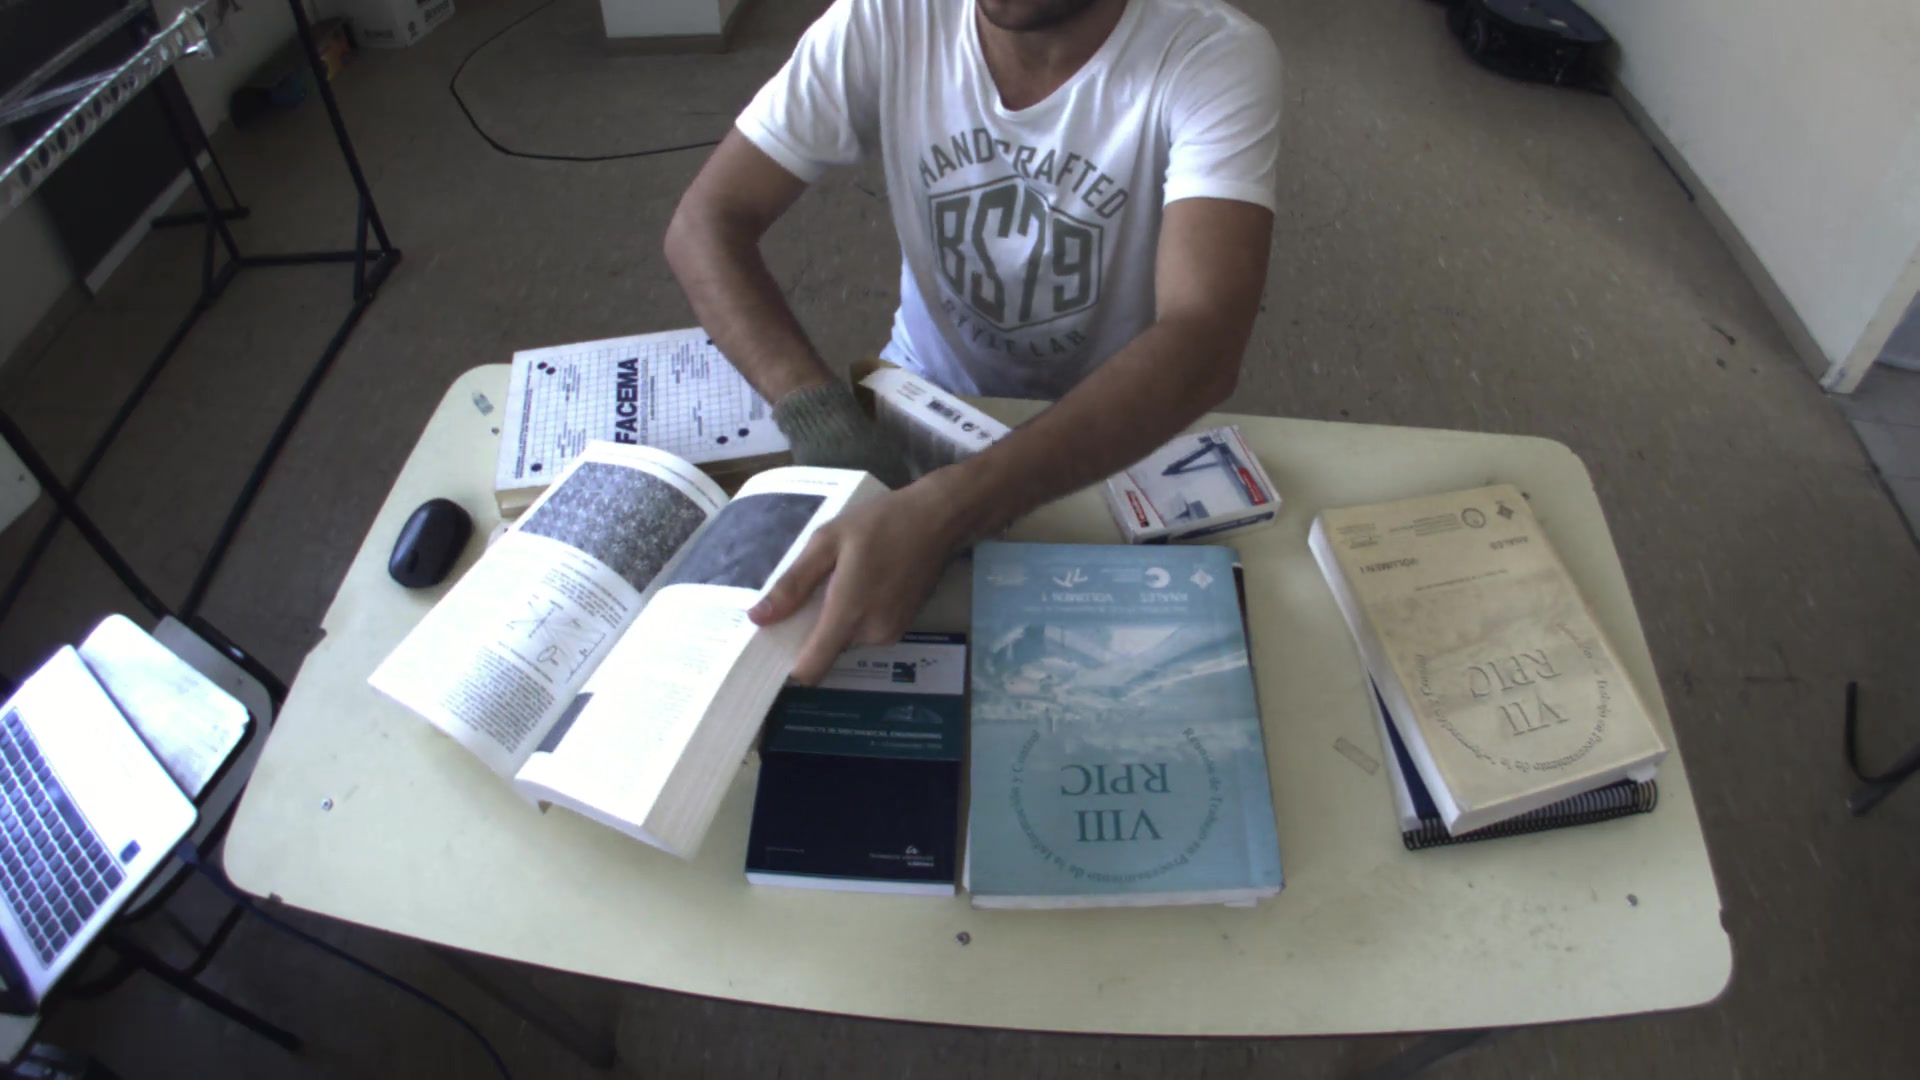hand: (742, 487, 940, 687)
